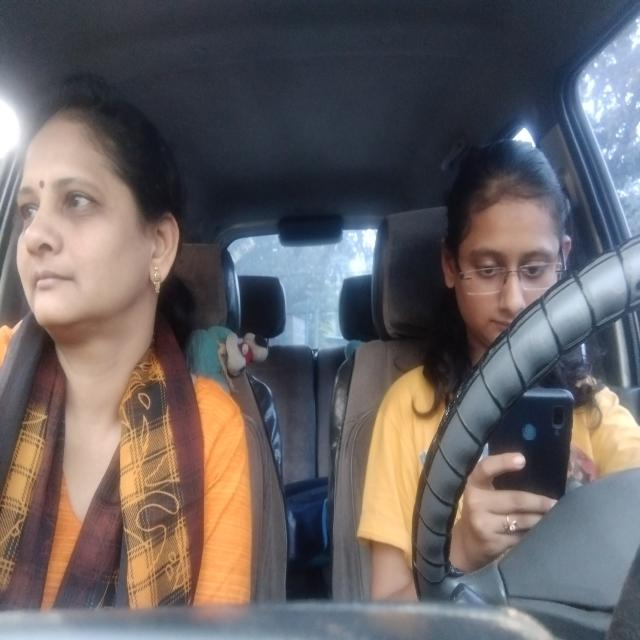mobile: (500, 398, 571, 519)
person: (12, 96, 183, 331), (451, 136, 576, 344)
